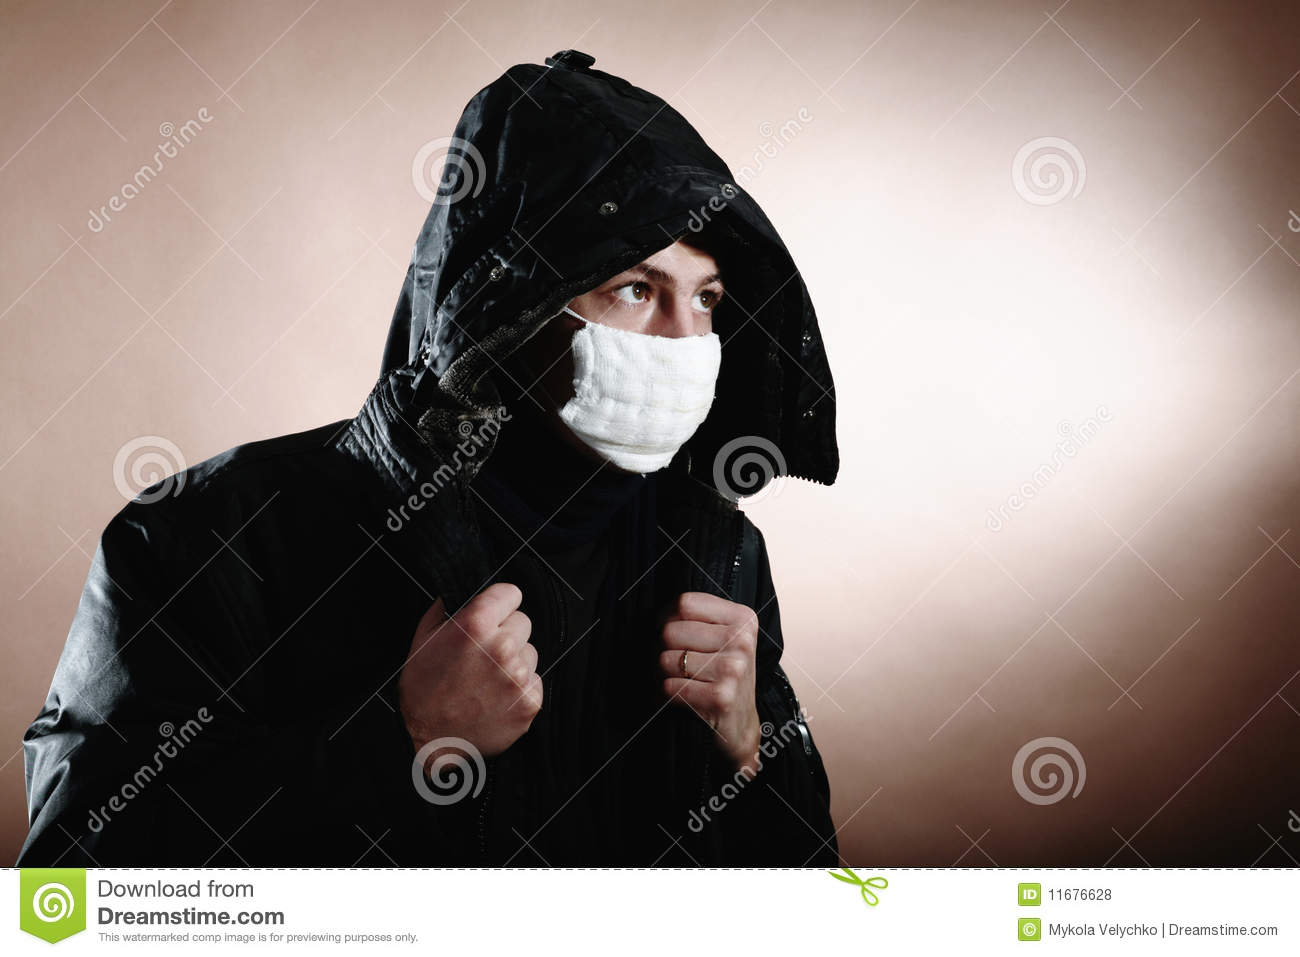mask: (564, 326, 722, 471)
